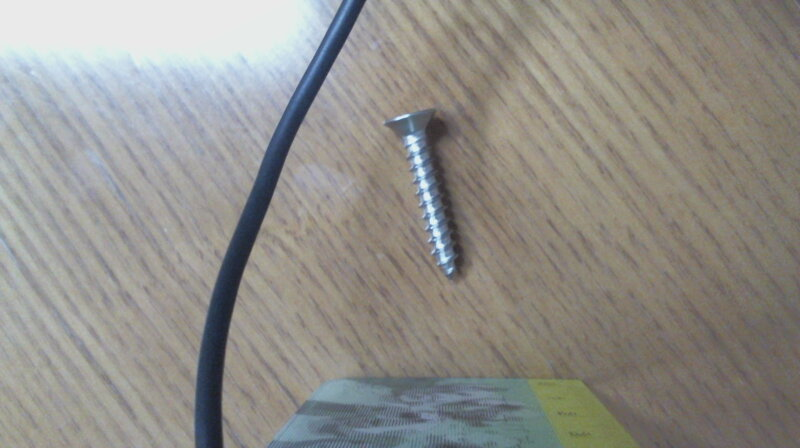S001: (380, 103, 467, 281)
